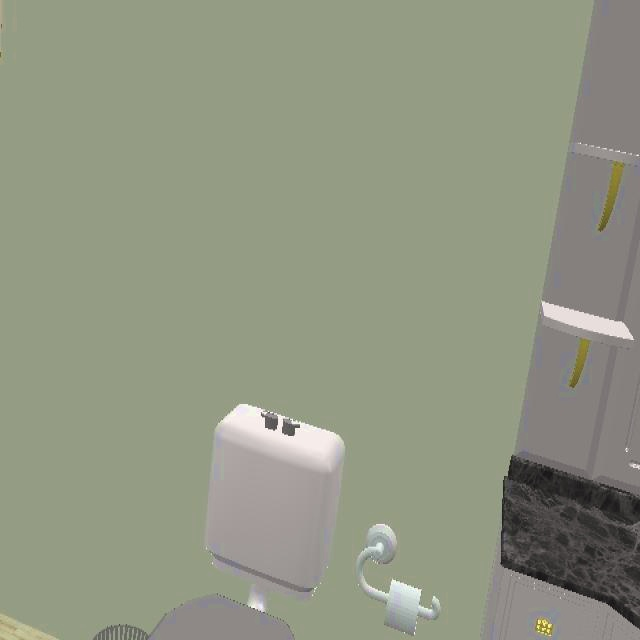toilet: (147, 404, 346, 640)
